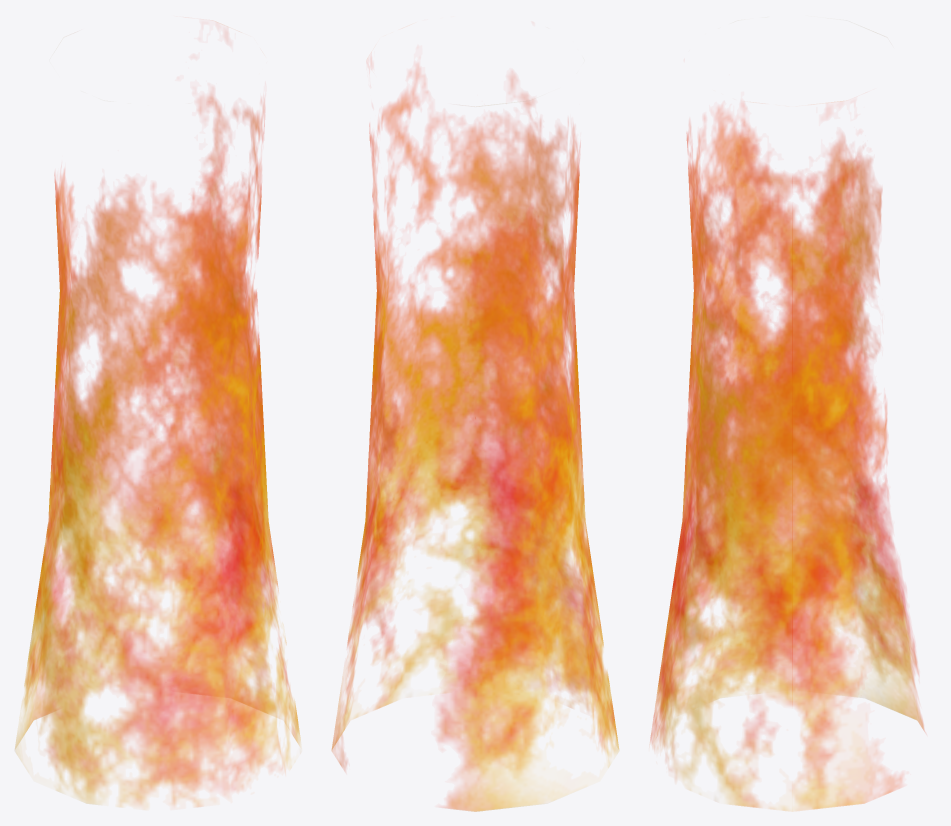
Rendered from dk_pillarof_fire_cylinder02-0674c3ae.glb.
3 renders of one model, left to right at view 1: azimuth 30°, elevation 25°; view 2: azimuth 150°, elevation 25°; view 3: azimuth 270°, elevation 25°, orthographic.
Parts seen in each view (by area): view 1: dk_pillarof_fire_Cylinder02; view 2: dk_pillarof_fire_Cylinder02; view 3: dk_pillarof_fire_Cylinder02.
Part boxes in pixels (box(x1,y1,x2,y2)): dk_pillarof_fire_Cylinder02: box(14, 93, 301, 806); dk_pillarof_fire_Cylinder02: box(331, 65, 619, 811); dk_pillarof_fire_Cylinder02: box(650, 101, 924, 810).
Bounding box in the file's own units: 2.27 × 5.99 × 2.27.
Materials: 1 (1 with a texture image).
